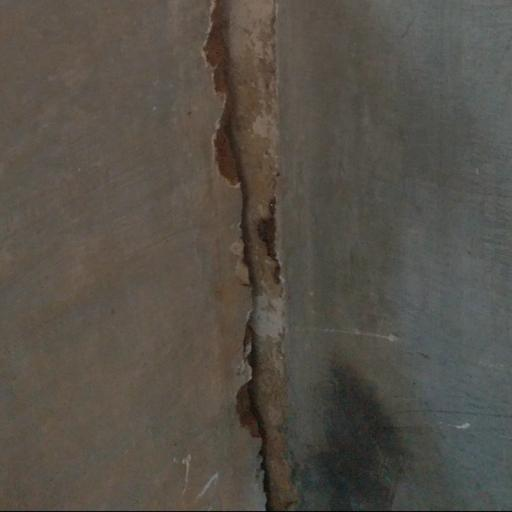major_crack: (195, 0, 325, 511)
